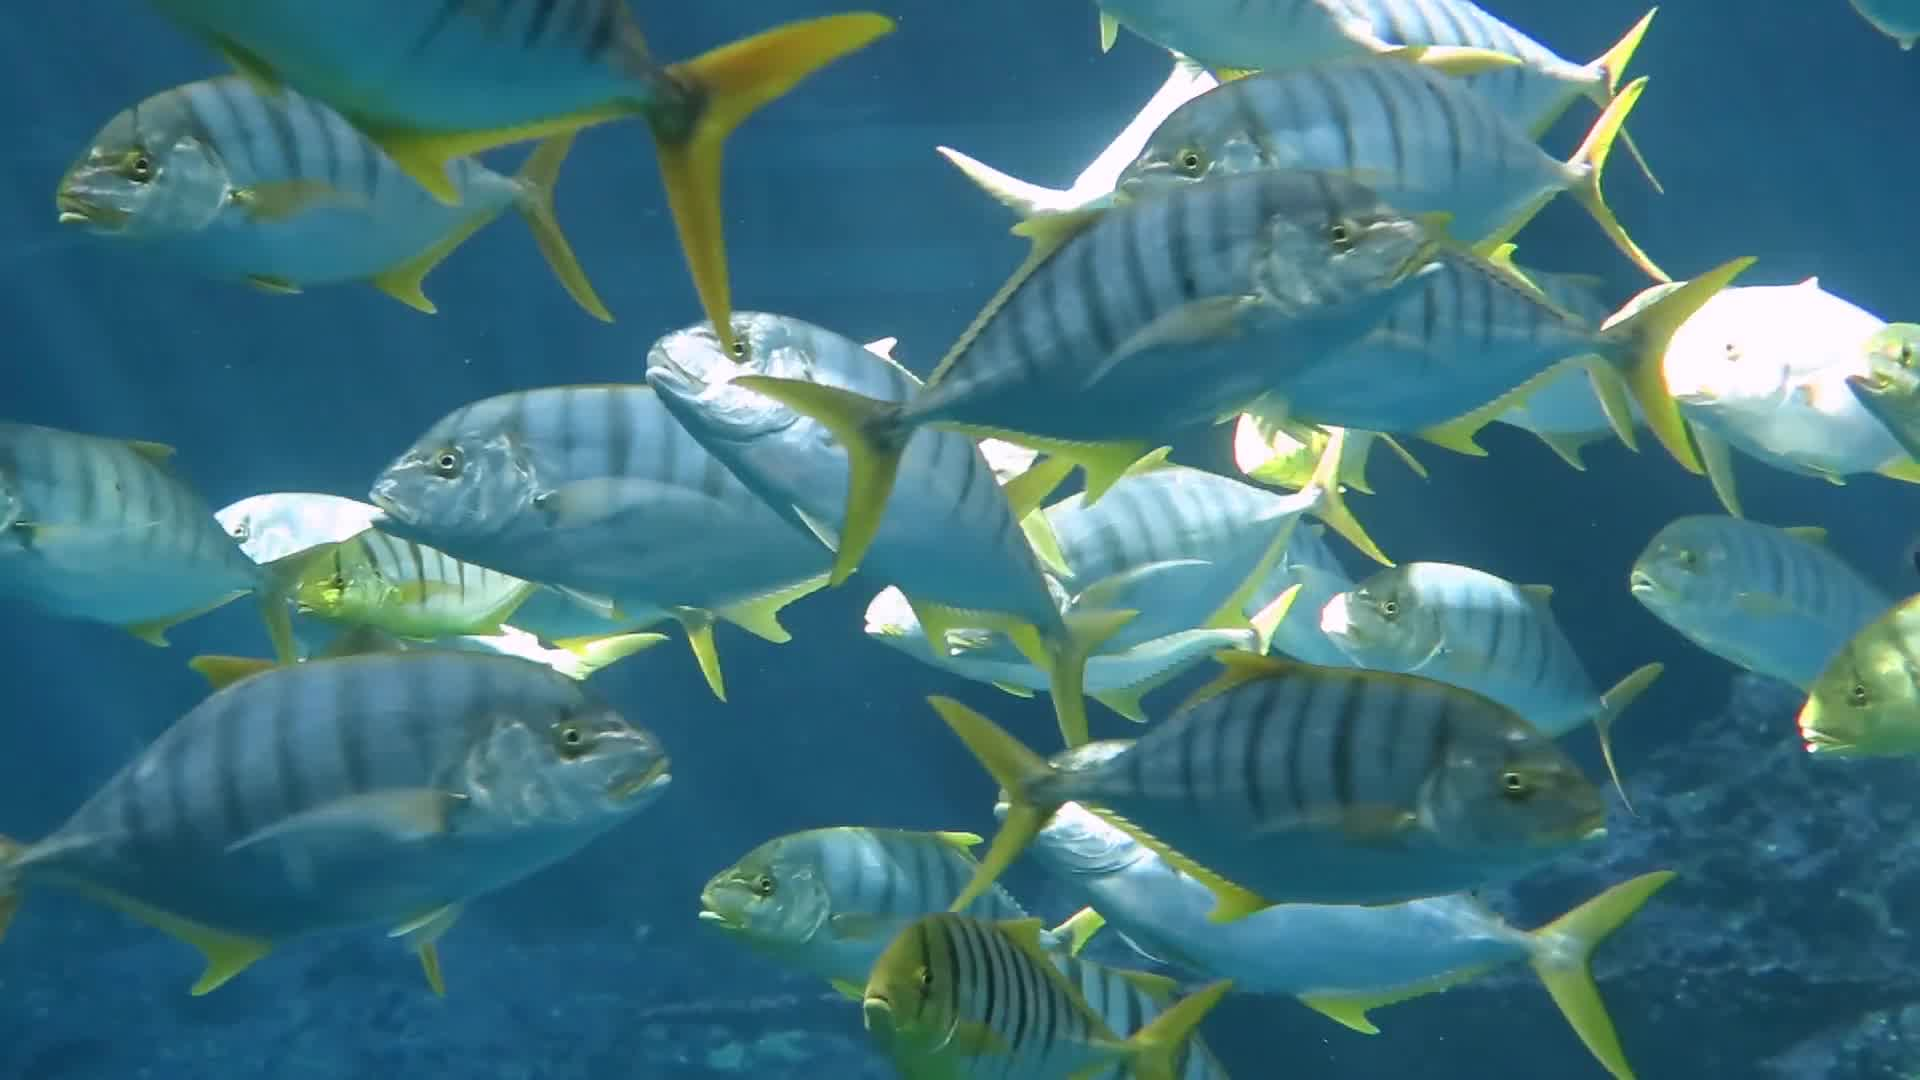Gnathanodon speciosus: (820, 169, 1444, 504), (11, 654, 670, 953), (647, 313, 1105, 695), (949, 651, 1629, 898), (36, 55, 603, 301), (1126, 88, 1680, 255), (367, 400, 774, 600), (858, 907, 1215, 1080), (1317, 554, 1627, 746), (694, 820, 1071, 965), (1615, 513, 1867, 687)
